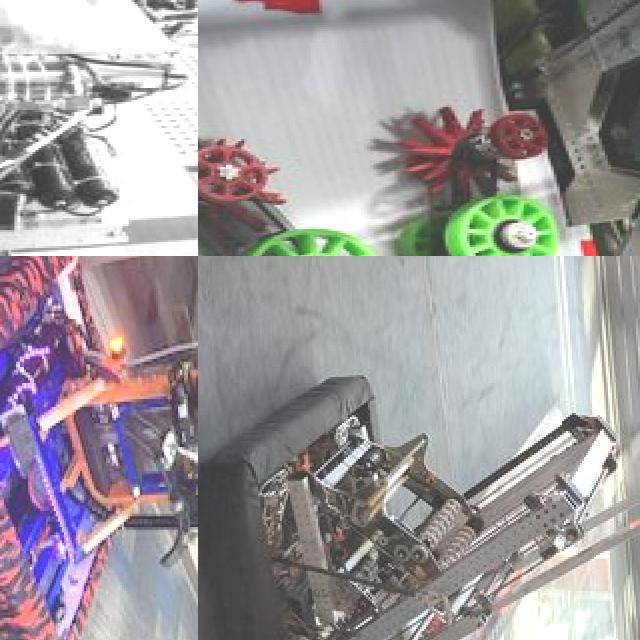FRC-Robots: (198, 342, 640, 640), (198, 0, 640, 256), (0, 256, 198, 640), (0, 0, 192, 256)
